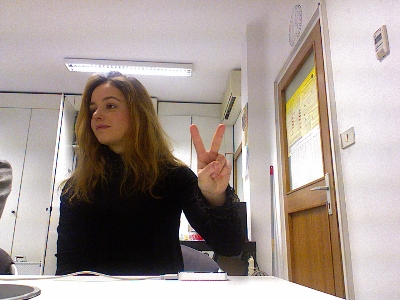剪刀: (188, 122, 233, 197)
